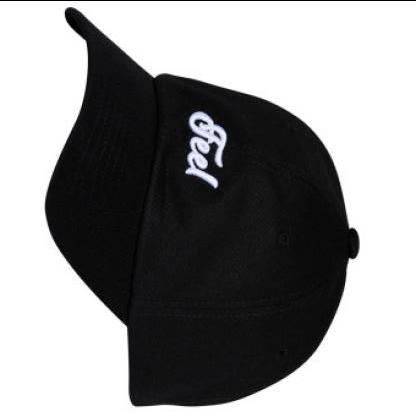cap: (37, 11, 366, 409)
